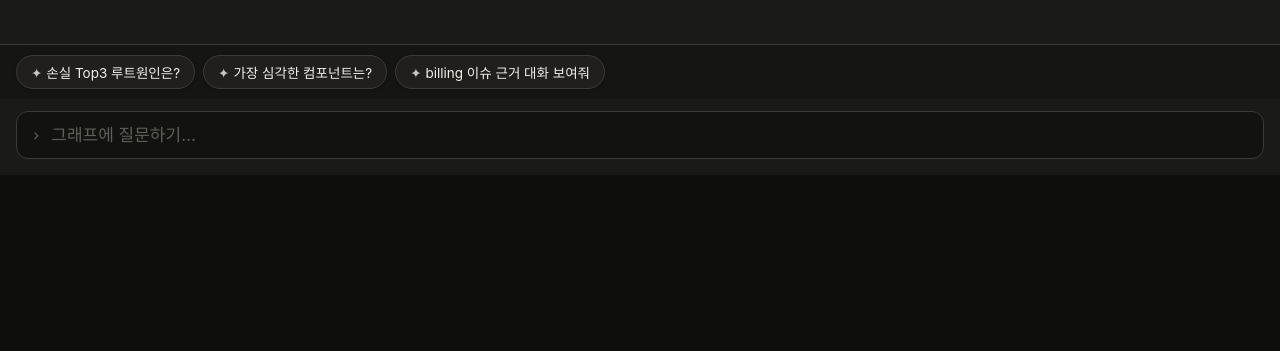
it: ChatStream › should render the bot answer only after all three arms have lit
Step 1. Type "결제 실패 원인?" into the field with placeholder "그래프에 질문하기…" → (649, 135), box 49,124 -> 1249,146
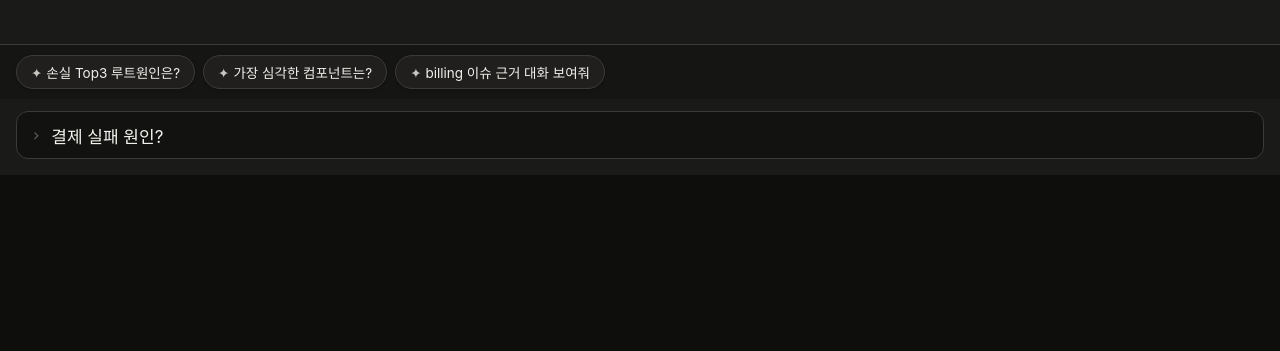
Step 2. Submit the form with placeholder "질문", box 0,99 -> 1279,175
Wait 300 ms
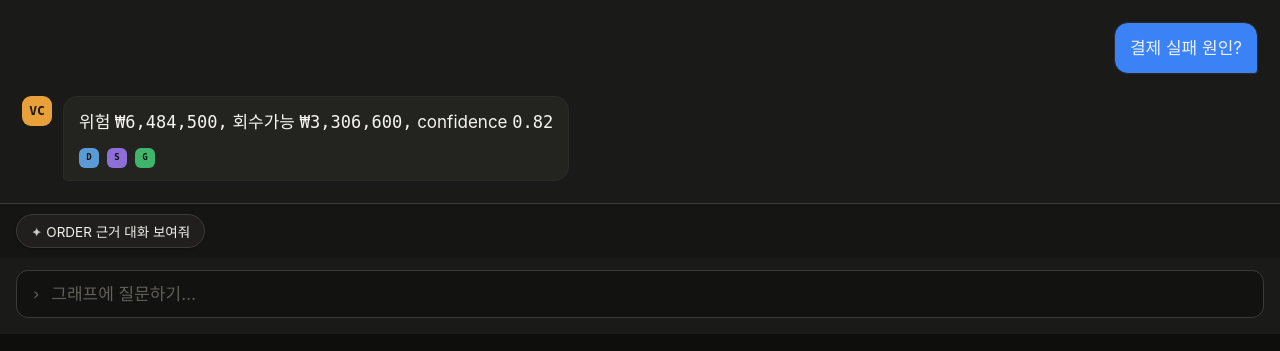
Result: the element with test id "answer" reads "위험 ₩6,484,500, 회수가능 ₩3,306,600, confidence 0.82" at 79,109 -> 553,136
